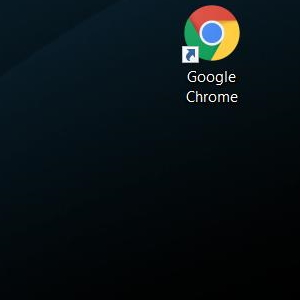chrome: (181, 5, 240, 63)
